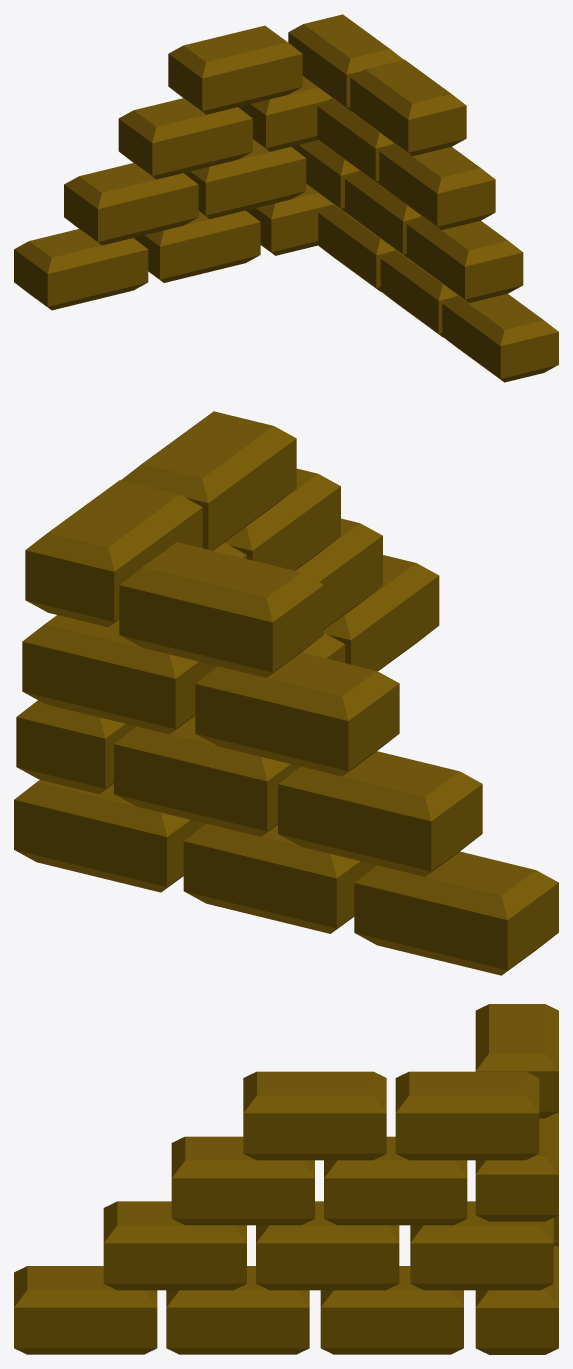
File: SandbagLLarge.fbx
3 views of the same model, one above another, from view 1: azimuth 30°, elevation 25°; view 2: azimuth 150°, elevation 25°; view 3: azimuth 270°, elevation 25° (orthographic). The views are drawn at different scales.
Visible parts, largest first — view 1: ConcreteBarricadeShort.004; view 2: ConcreteBarricadeShort.004; view 3: ConcreteBarricadeShort.004.
Part boxes in pixels (x1,y1,x2,y2): ConcreteBarricadeShort.004: [14, 14, 558, 382]; ConcreteBarricadeShort.004: [14, 411, 558, 975]; ConcreteBarricadeShort.004: [14, 1004, 558, 1354].
Bounding box in the file's own units: 646 × 400 × 760.
